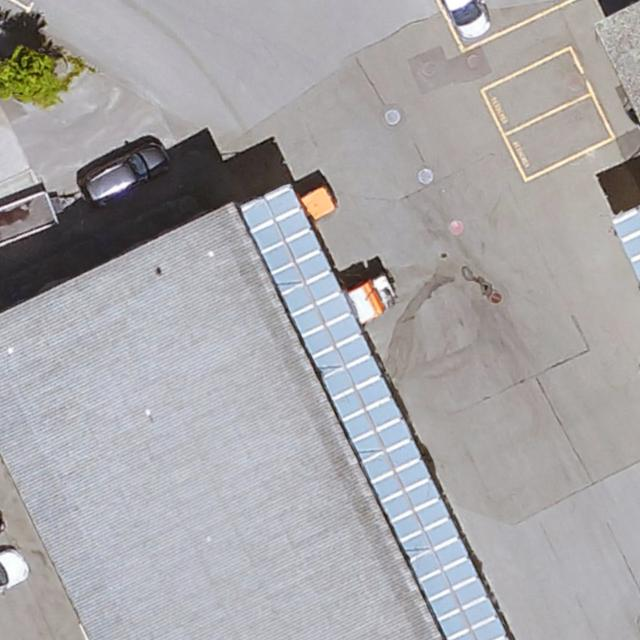tree: (0, 42, 62, 107)
